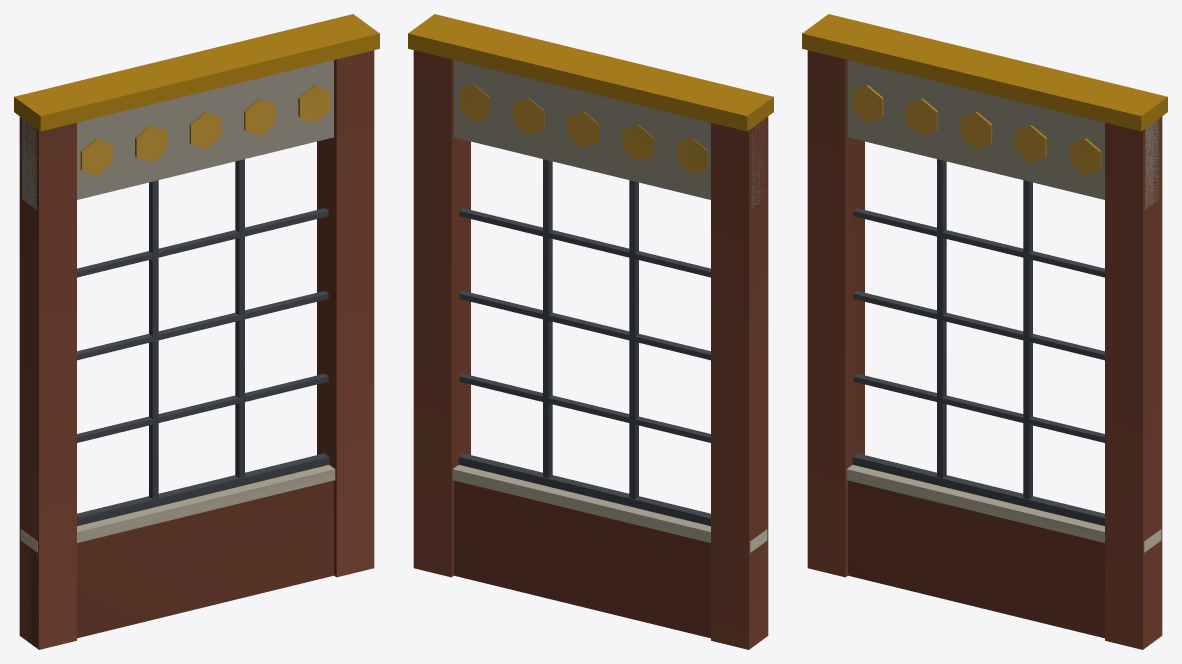
Rendered from prop.honey_wall.glb.
The picture shows the model from 3 angles, left to right: view 1: azimuth 30°, elevation 25°; view 2: azimuth 150°, elevation 25°; view 3: azimuth 330°, elevation 25°; orthographic projection.
Parts seen in each view (by area): view 1: honey_wall; view 2: honey_wall; view 3: honey_wall.
Boxes of the visible parts, x1,y1,x2,y2 form: honey_wall: [14, 14, 379, 649]; honey_wall: [408, 14, 773, 649]; honey_wall: [802, 14, 1167, 649].
Bounding box in the file's own units: 8.1 × 12.25 × 1.1.
